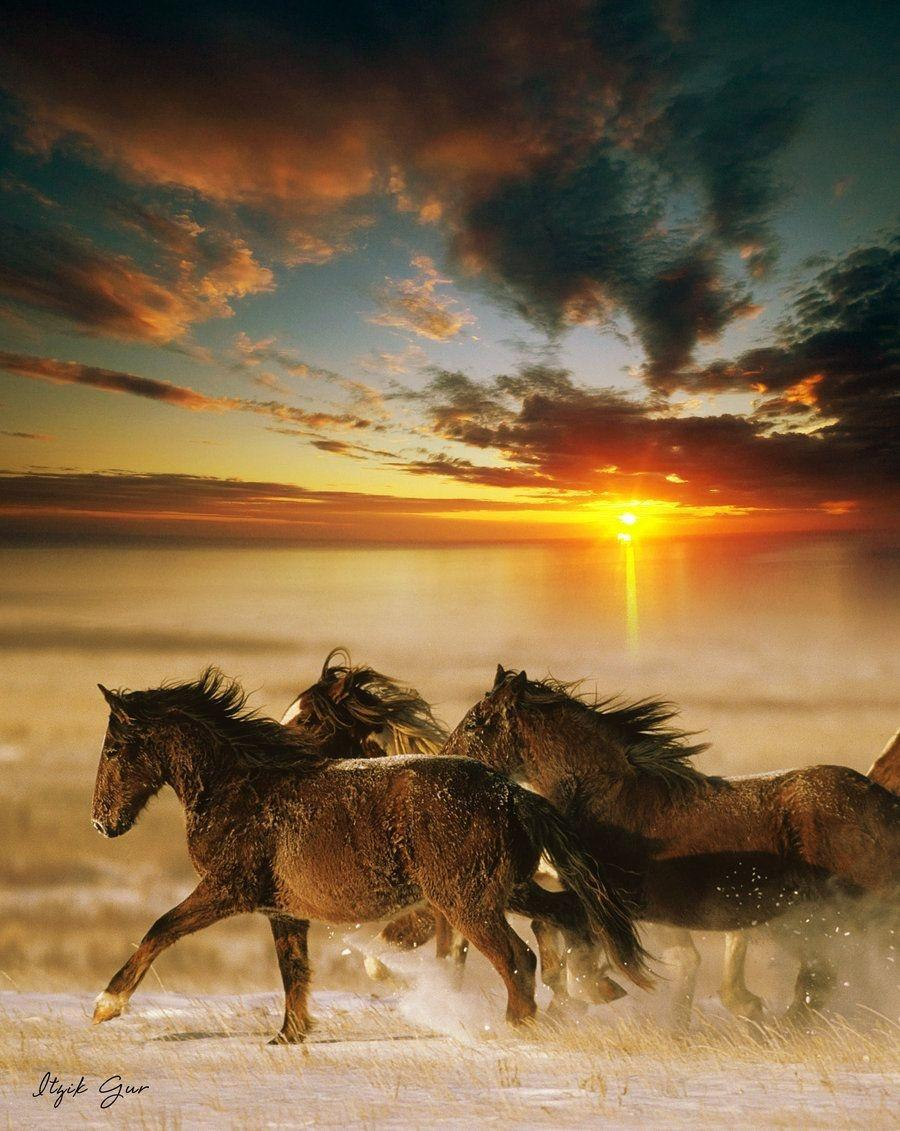horse: (88, 663, 664, 1046), (435, 662, 898, 1045)
